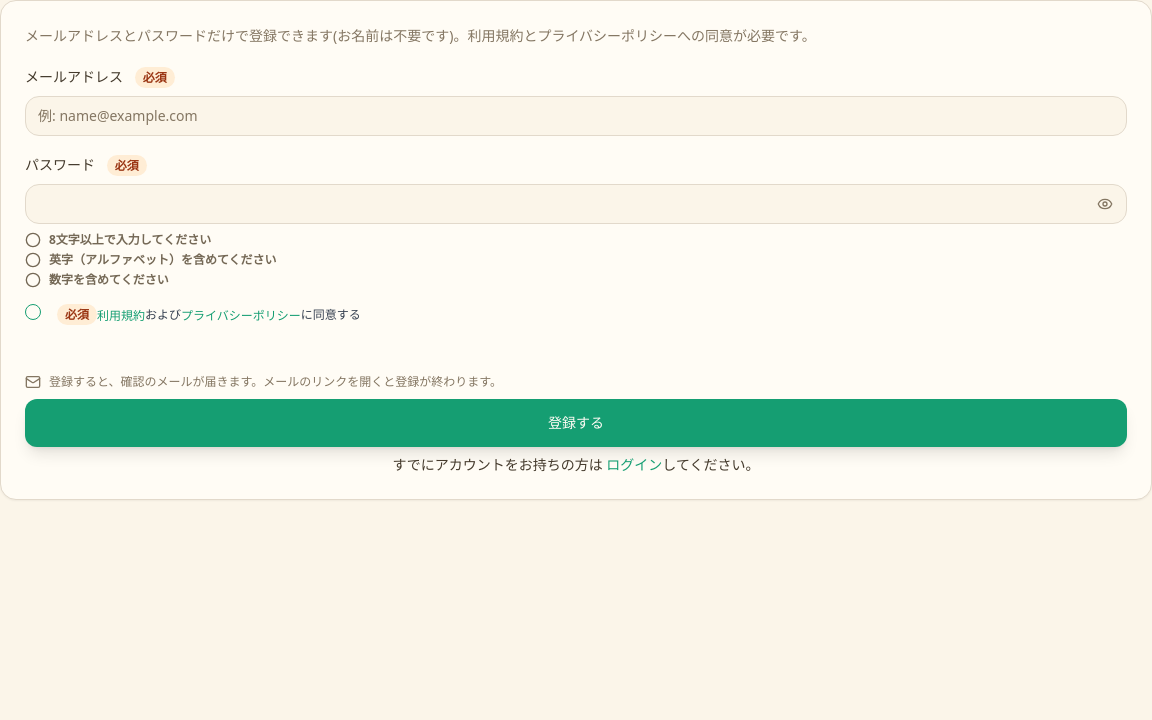
Test: RegisterForm › 氏名を聞かず、メールとパスワードだけで登録し、送ったあとは確認メールの案内を出す
Expected: the text "メールアドレスとパスワードだけで登録できます(お名前は不要です)。利用規約とプライバシーポリシーへの同意が必要です。" is shown, [25, 26, 816, 45]
In the field labelled "メールアドレス 必須": (576, 116) [25, 96, 1127, 136], type "parent@example.com"
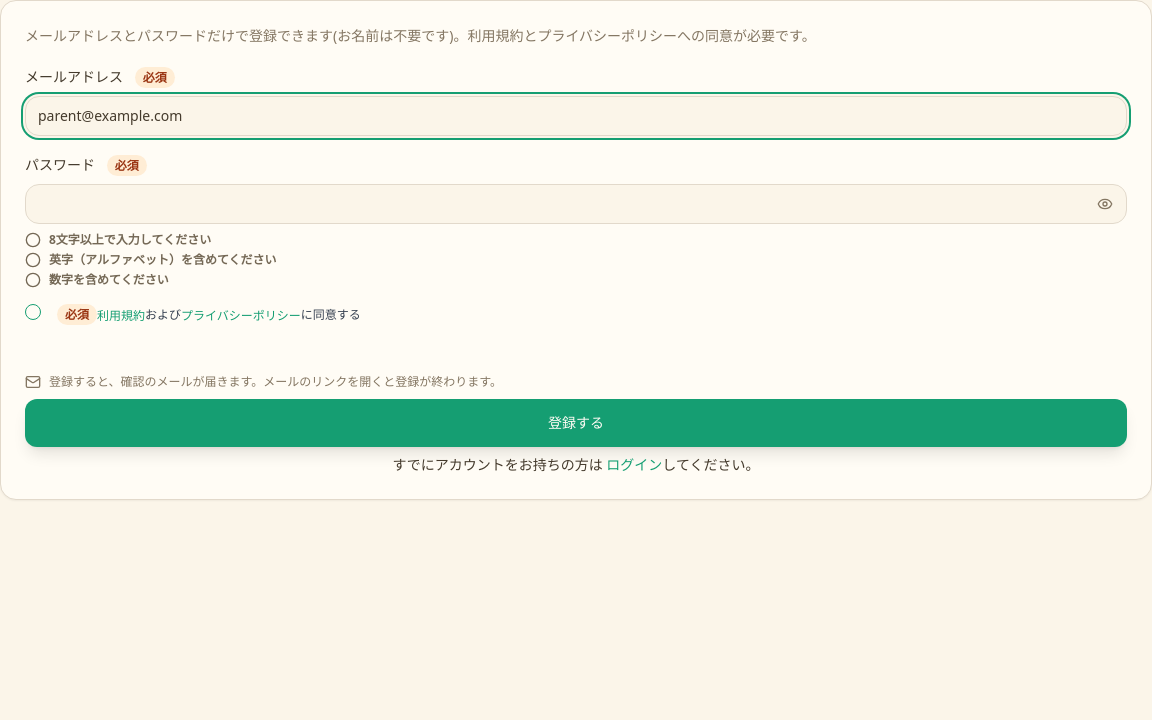
In the password field labelled "パスワード 必須": (576, 204) [25, 184, 1127, 224], type "password1"
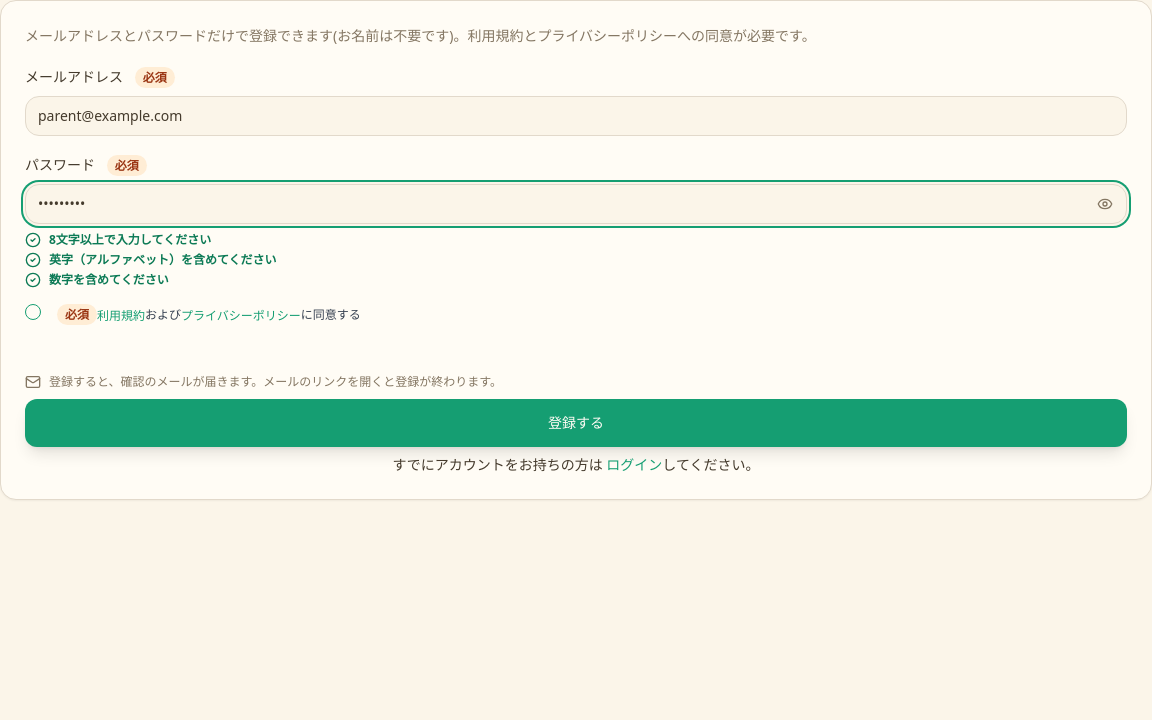
Click the checkbox with test id "agree-to-terms-checkbox": (33, 312) [25, 304, 41, 320]
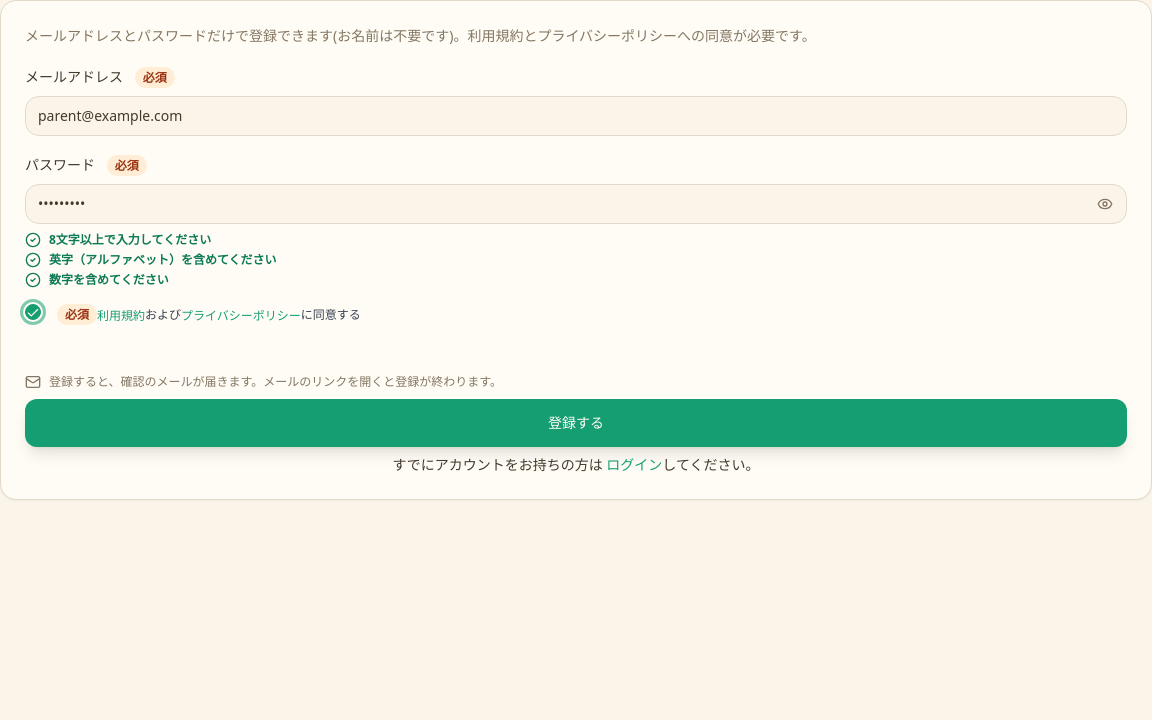
Click the button "登録する": (576, 423) [25, 399, 1127, 447]
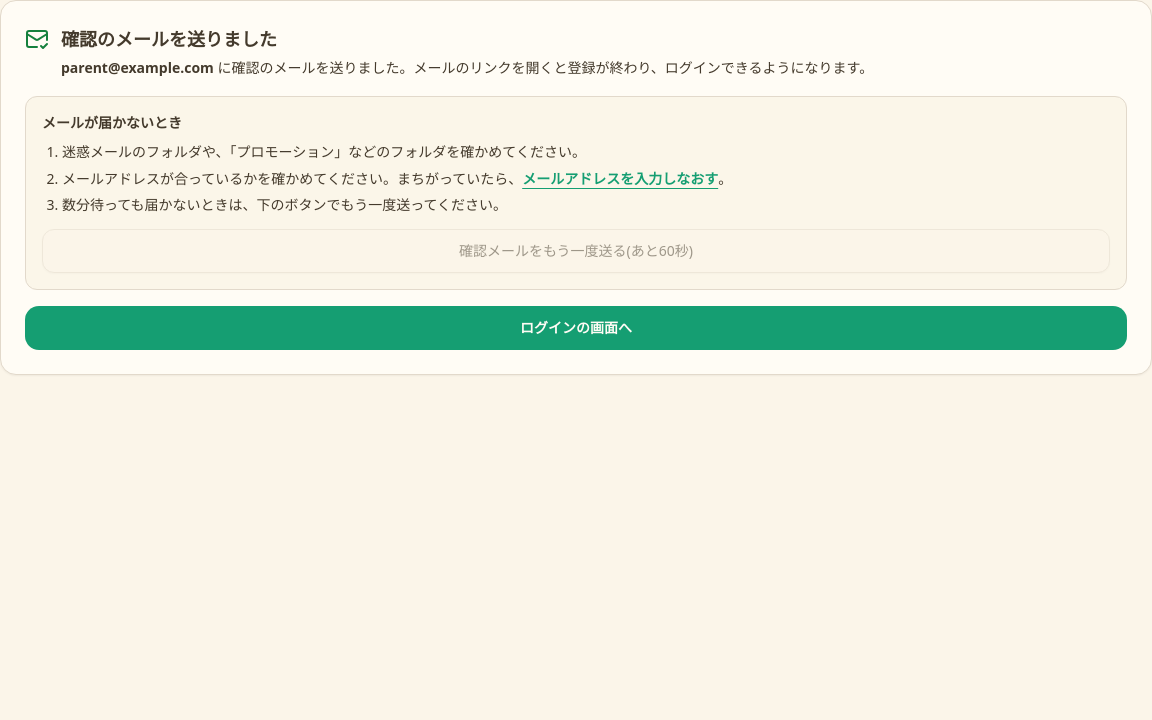
Expected: the heading "確認のメールを送りました" is shown, [61, 27, 277, 51]
Expected: the element with test id "register-mail-sent" shows "parent@example.com", [61, 58, 214, 77]
Expected: the heading "メールが届かないとき" is shown, [42, 113, 182, 132]
